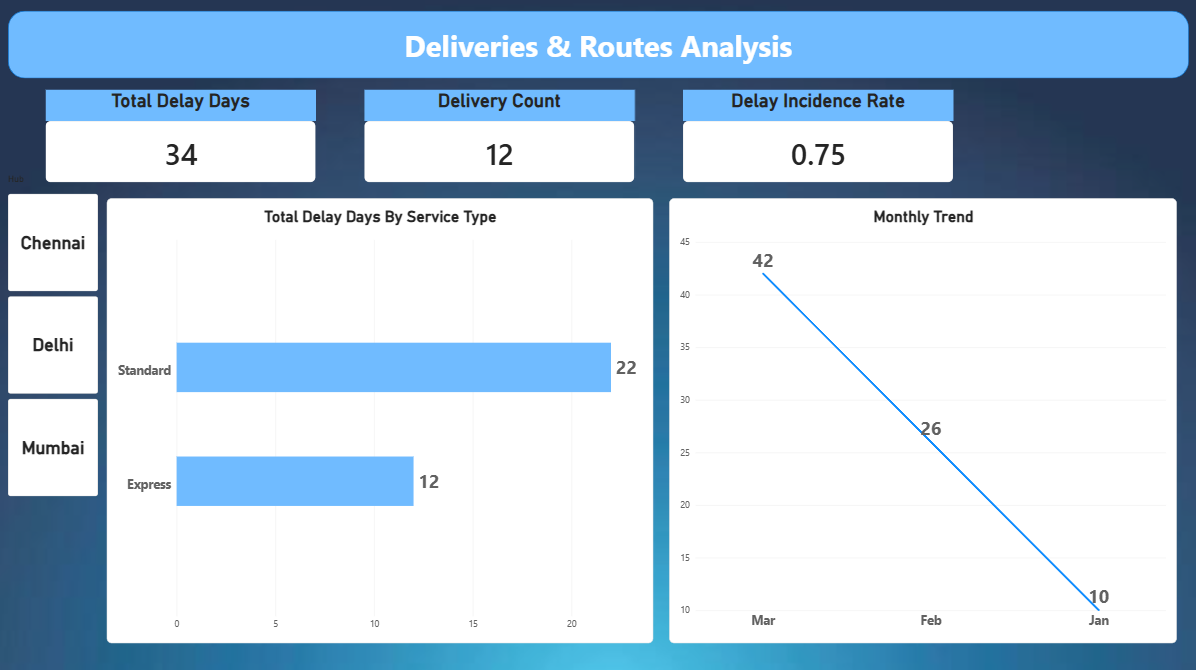

The page's visual inventory and layout, read from the dashboard file:
{"tool":"powerbi","page":{"name":"Page 1","canvas":[1920,1080],"ordinal":0},"visuals":[{"type":"advancedSlicerVisual","fields":{"Values":["Deliveries.Hub"]},"box":[15.1,281.3,145,519.4],"z":0},{"type":"shape","box":[15.1,21.6,1889.3,108.2],"z":1},{"type":"cardVisual","title":"Total Delay Days","fields":{"Data":["Deliveries.Total Delay Days"]},"box":[76.7,148.3,432.8,149.3],"z":2},{"type":"cardVisual","title":"Delivery Count","fields":{"Data":["Deliveries.Delivery Count"]},"box":[586.7,148.3,432.8,149.3],"z":3},{"type":"cardVisual","title":" Delay Incidence Rate","fields":{"Data":["Deliveries.Delay Incidence Rate"]},"box":[1096.7,148.3,432.8,149.3],"z":4},{"type":"barChart","title":"Total Delay Days By Service Type","fields":{"Category":["Deliveries.Service_Type"],"Y":["Deliveries.Total Delay Days"]},"box":[174,322,874,712],"z":5},{"type":"lineChart","title":"Monthly Trend","fields":{"Category":["Deliveries.Month"],"Y":["Sum(Deliveries.Record_id)"]},"box":[1074,322,812,712],"z":6}]}

Visuals, with their boxes in screenshot pixels (x1, y1, x2, y2), scaled from the page's 1920x1080 canvas onto the 1196x670 screenshot:
advancedSlicerVisual - Deliveries.Hub: bbox=(9, 175, 100, 497)
shape: bbox=(9, 13, 1186, 81)
"Total Delay Days" cardVisual: bbox=(48, 92, 317, 185)
"Delivery Count" cardVisual: bbox=(365, 92, 635, 185)
" Delay Incidence Rate" cardVisual: bbox=(683, 92, 953, 185)
"Total Delay Days By Service Type" barChart: bbox=(108, 200, 653, 641)
"Monthly Trend" lineChart: bbox=(669, 200, 1175, 641)
